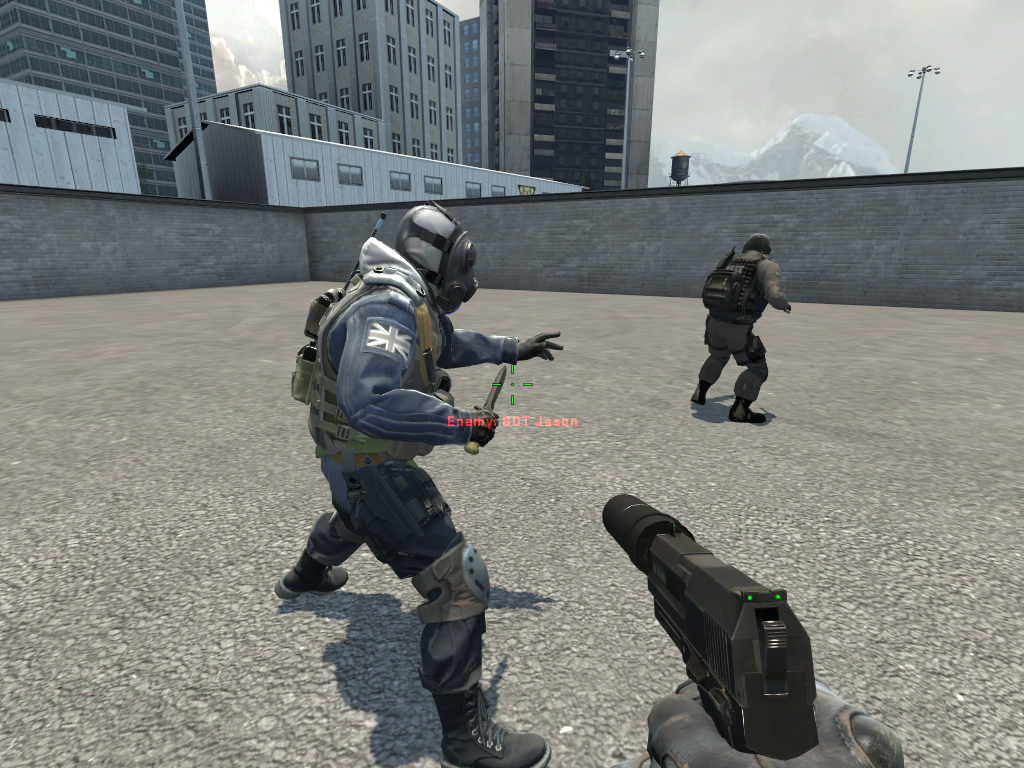ct head: (386, 196, 489, 310), (741, 229, 776, 267)
